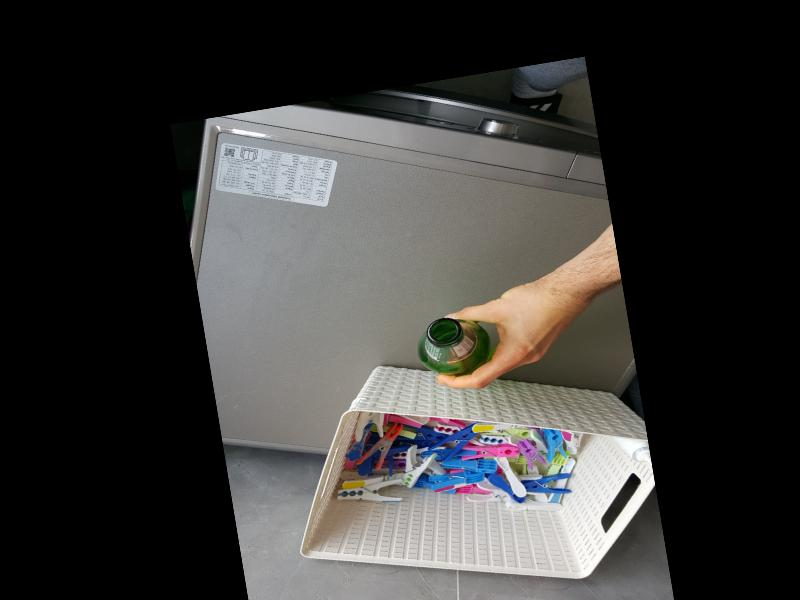Beer: (412, 309, 496, 381)
